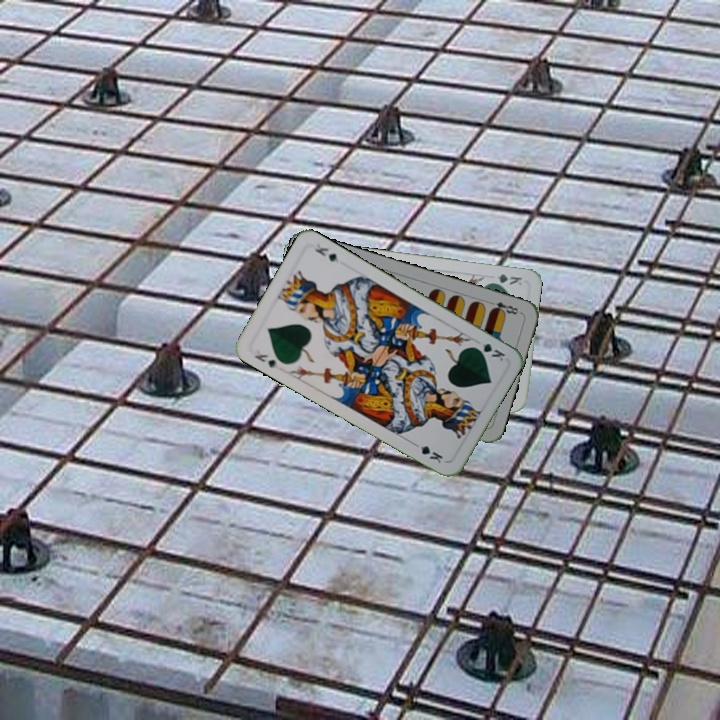E8: (484, 297, 524, 317)
GK: (469, 339, 508, 364), (251, 345, 281, 371), (485, 270, 524, 288)
